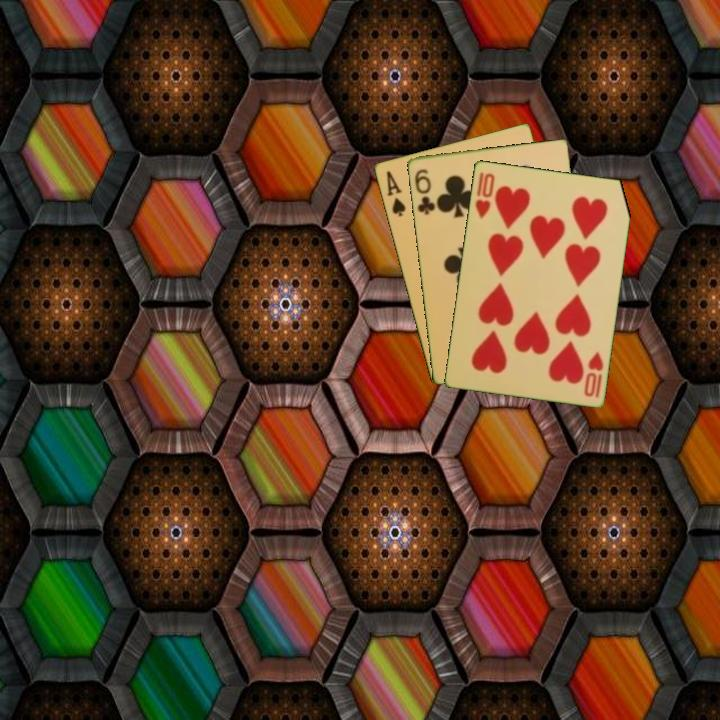10h: (471, 168, 497, 221), (580, 347, 606, 400)
6c: (411, 165, 438, 217)
As: (382, 167, 408, 219)
